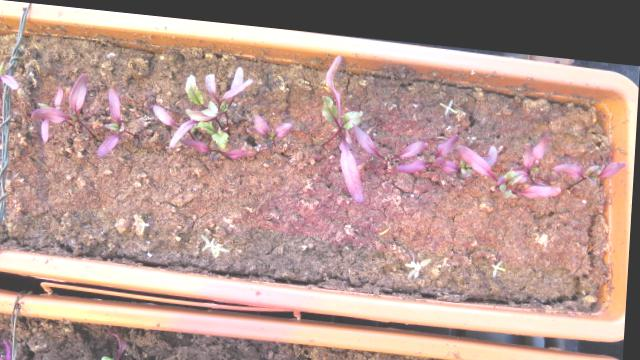weed: (434, 86, 460, 107), (490, 246, 509, 266)
